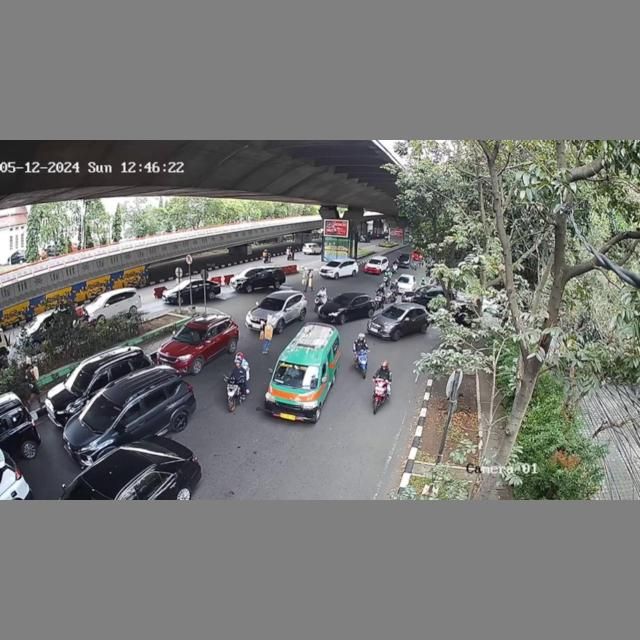windshield: (272, 359, 320, 392), (81, 395, 122, 428), (174, 325, 206, 346), (257, 297, 287, 313)
